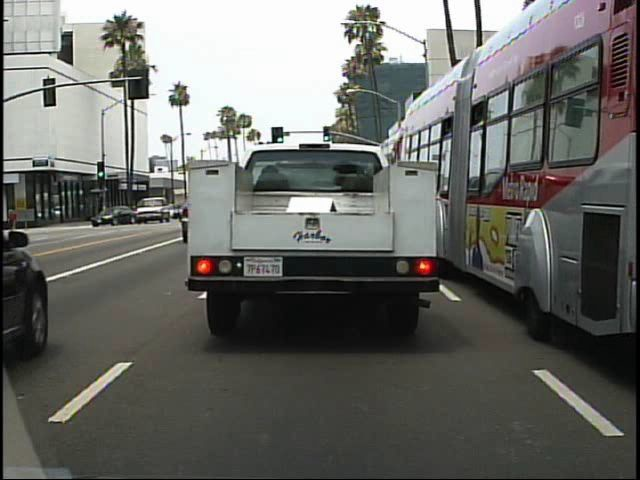person: (6, 205, 20, 234)
